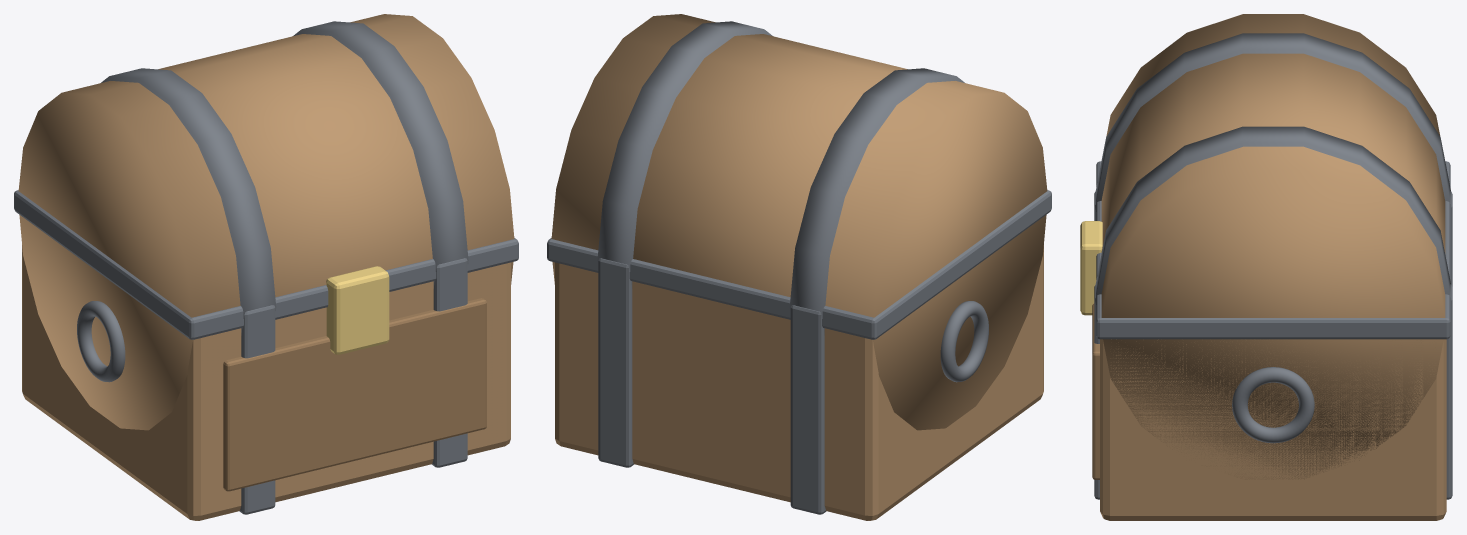
Rendered from pushable_chest.glb.
3 renders of one model, left to right at view 1: azimuth 30°, elevation 25°; view 2: azimuth 150°, elevation 25°; view 3: azimuth 270°, elevation 25°, orthographic.
Visible parts, largest first — view 1: ChestLidBarrel, ChestPanelF, ChestBase, IronArch_0.28, IronArch_-0.28, RimTrim, LockClasp, IronStrap_-0.28, IronStrap_0.28, ChestHandle_-1; view 2: ChestLidBarrel, ChestBase, RimTrim, IronArch_0.28, IronArch_-0.28, IronStrap_-0.28, IronStrap_0.28, ChestHandle_-1; view 3: ChestLidBarrel, ChestBase, RimTrim, IronArch_0.28, IronArch_-0.28, ChestHandle_1, LockClasp, IronStrap_0.28, ChestPanelF.
Part boxes in pixels (box(x1,y1,x2,y2)): ChestLidBarrel: box(18, 14, 514, 430); ChestPanelF: box(223, 298, 486, 491); ChestBase: box(22, 245, 510, 520); IronArch_0.28: box(293, 21, 468, 288); IronArch_-0.28: box(101, 68, 276, 335); RimTrim: box(14, 190, 518, 339); LockClasp: box(326, 266, 389, 354); IronStrap_-0.28: box(239, 305, 275, 514); IronStrap_0.28: box(432, 258, 467, 467); ChestHandle_-1: box(77, 301, 125, 382); ChestLidBarrel: box(551, 14, 1047, 430); ChestBase: box(555, 245, 1043, 520); RimTrim: box(547, 190, 1051, 339); IronArch_0.28: box(597, 21, 772, 288); IronArch_-0.28: box(789, 68, 964, 335); IronStrap_-0.28: box(790, 305, 826, 514); IronStrap_0.28: box(598, 258, 633, 467); ChestHandle_-1: box(940, 301, 988, 382); ChestLidBarrel: box(1101, 14, 1445, 479); ChestBase: box(1100, 339, 1446, 520); RimTrim: box(1096, 161, 1450, 339); IronArch_0.28: box(1095, 126, 1451, 304); IronArch_-0.28: box(1095, 33, 1451, 211); ChestHandle_1: box(1232, 367, 1314, 443); LockClasp: box(1080, 221, 1102, 315); IronStrap_0.28: box(1094, 284, 1452, 499); ChestPanelF: box(1092, 303, 1099, 479).
Size of the model in its own units: 0.9949 by 1 by 0.9402.
